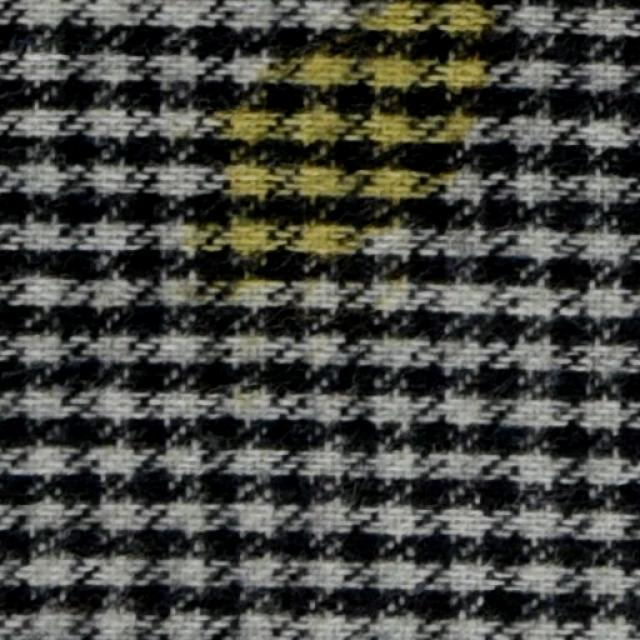Stain: (177, 1, 505, 298)
